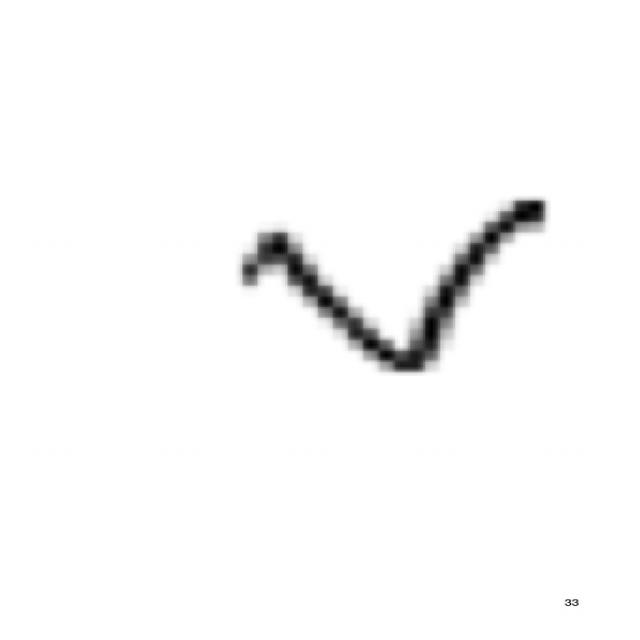7 -seven-: (212, 185, 556, 378)
